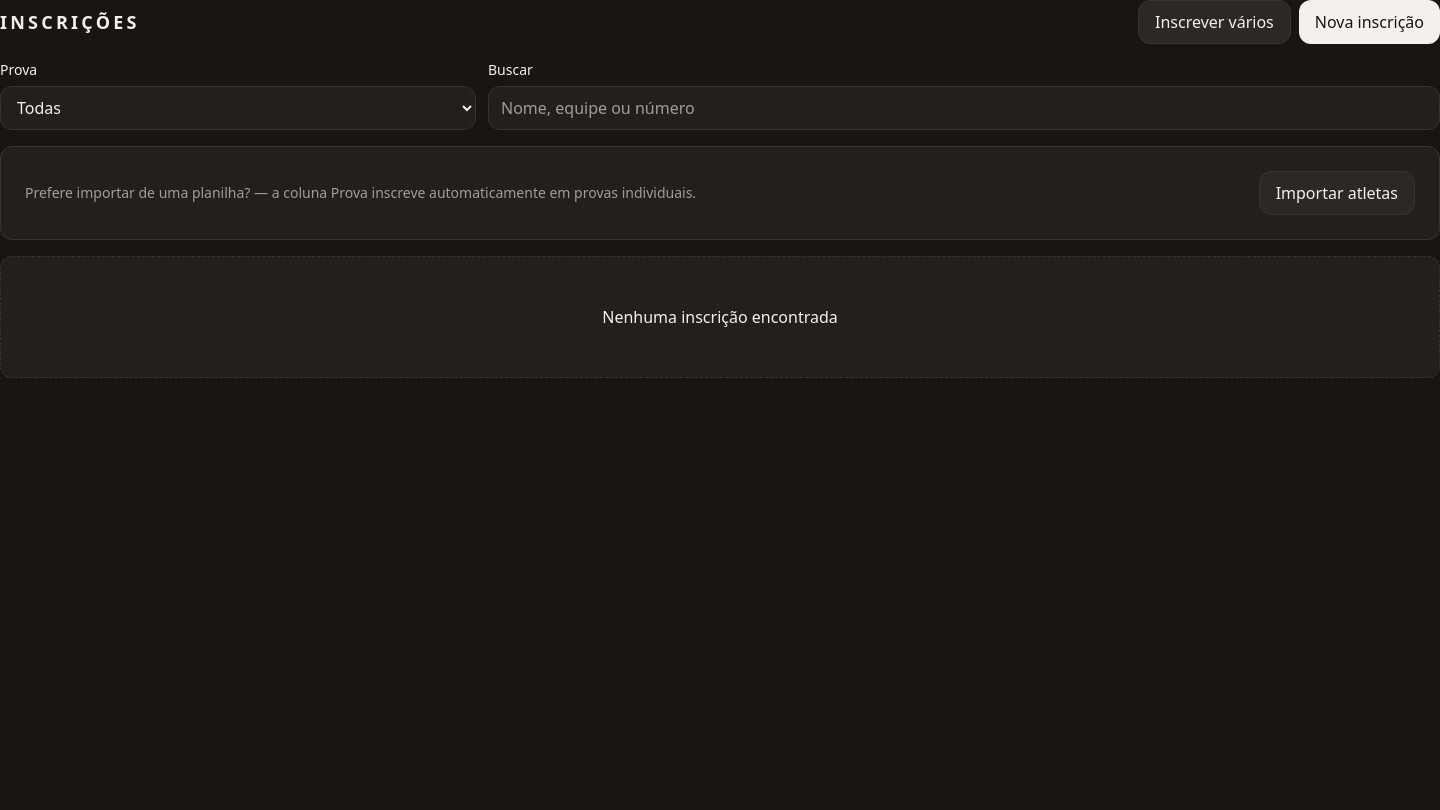
Test case: creating a team entry › blocks save and shows validation messages when required fields are missing
The width and height of the screenshot is (1440, 810).
Click the button with test id "new-entry".
click(1369, 22)  # box top-left (1299, 0), bottom-right (1439, 44)
(page scrolled)
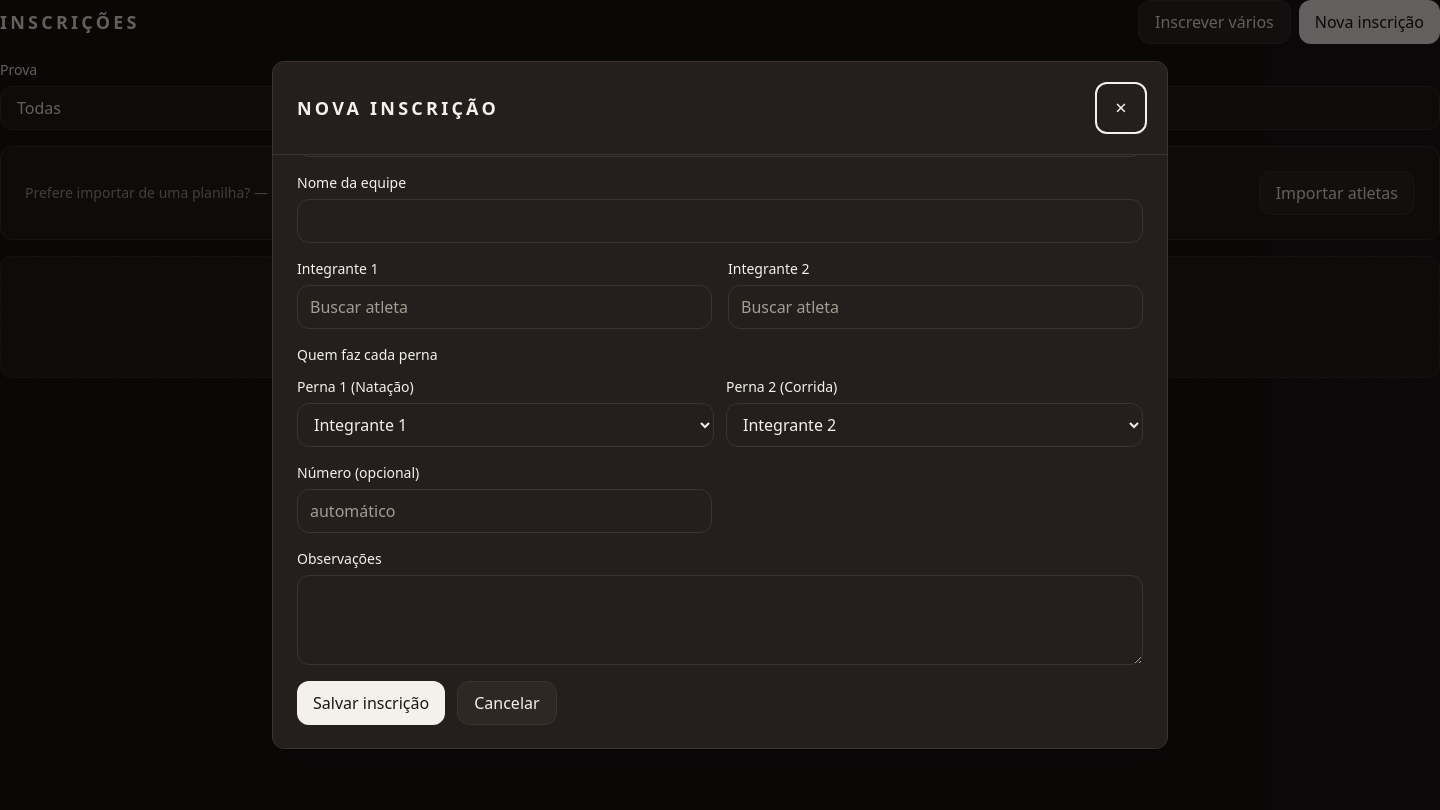
Click the button with test id "entry-save".
click(371, 703)  # box top-left (297, 681), bottom-right (445, 725)
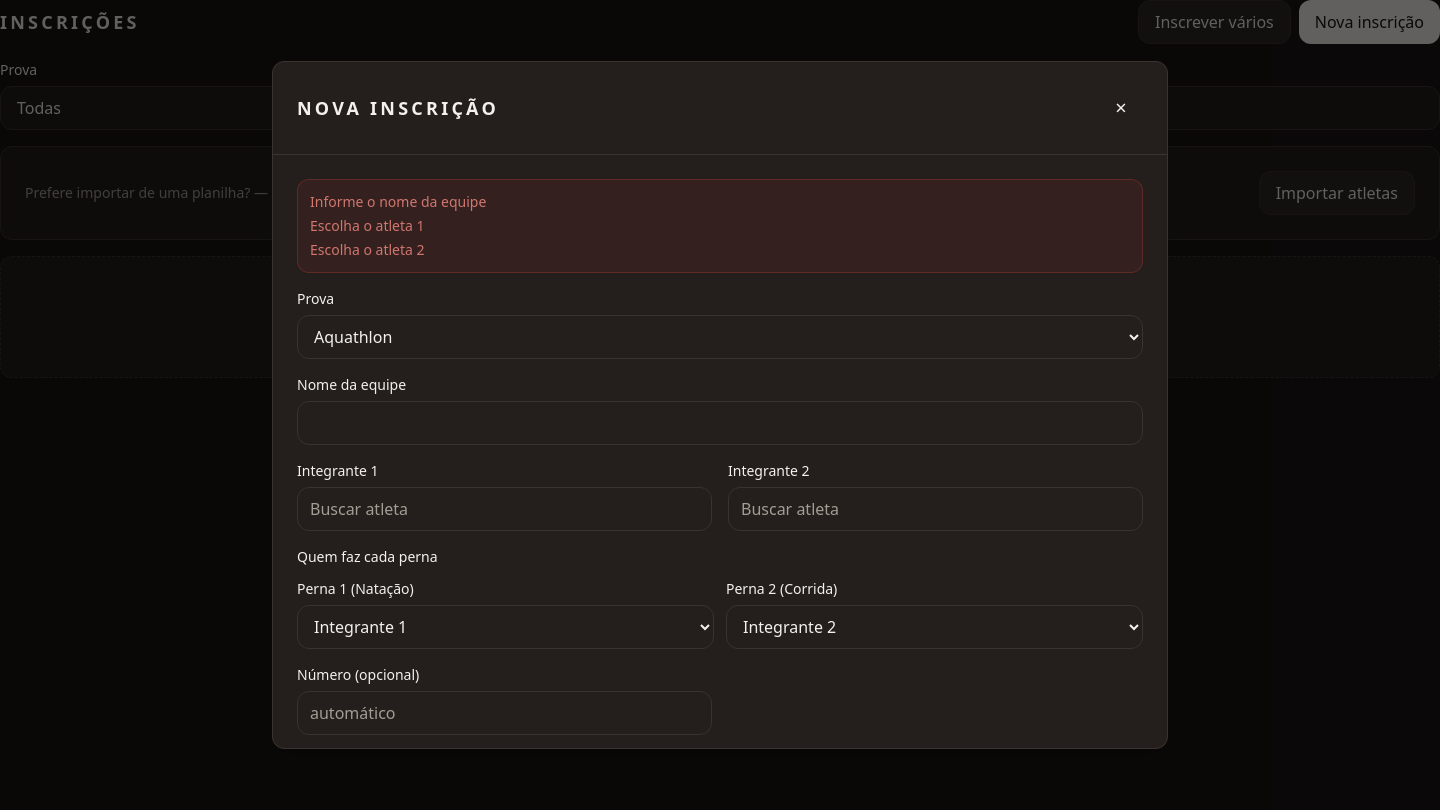
Expected: the text "Informe o nome da equipe" is shown, top-left (310, 192), bottom-right (486, 211)
Expected: the text "Escolha o atleta 1" is shown, top-left (310, 216), bottom-right (424, 235)
Expected: the text "Escolha o atleta 2" is shown, top-left (310, 240), bottom-right (424, 259)
